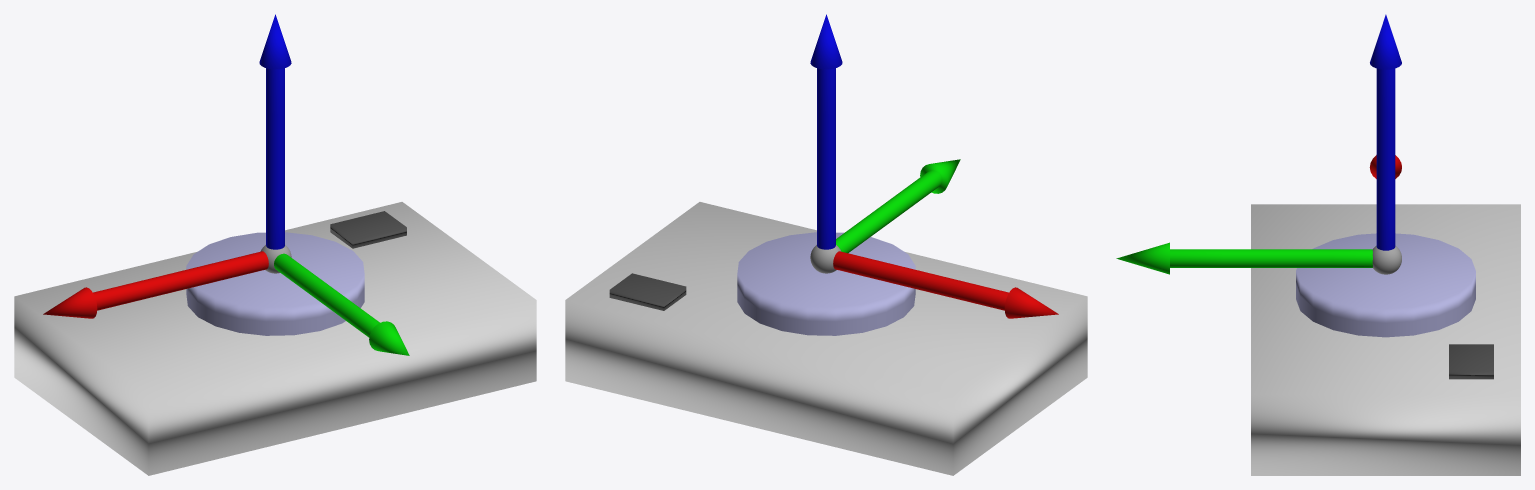
The model's file is camera.gltf.
3 views of the same model, side by side, from view 1: azimuth 30°, elevation 25°; view 2: azimuth 150°, elevation 25°; view 3: azimuth 270°, elevation 25° (orthographic).
Bounding box in the file's own units: 0.55 × 0.45 × 0.45.
